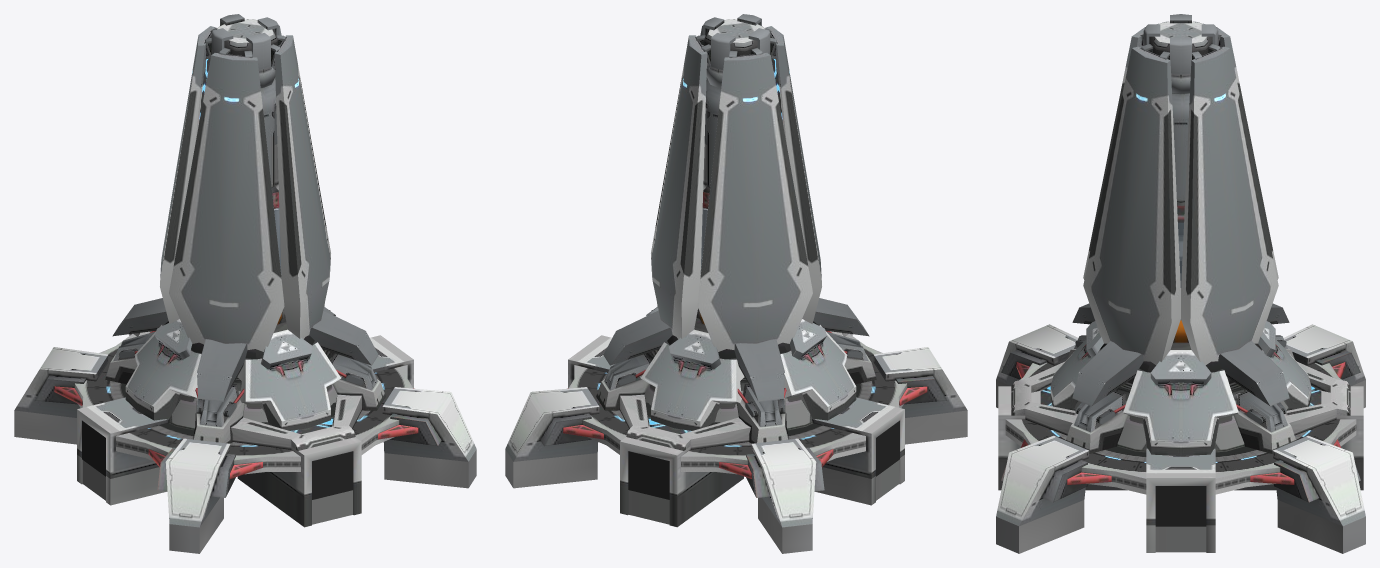
3 renders of one model, left to right at view 1: azimuth 30°, elevation 25°; view 2: azimuth 150°, elevation 25°; view 3: azimuth 270°, elevation 25°, orthographic. The views are drawn at different scales.
Visible parts, largest first — view 1: energy-exchanger; view 2: energy-exchanger; view 3: energy-exchanger.
Part boxes in pixels (box(x1,y1,x2,y2)): energy-exchanger: box(14, 14, 476, 553); energy-exchanger: box(505, 14, 967, 553); energy-exchanger: box(996, 14, 1365, 553).
Size of the model in its own units: 8.16 by 10.88 by 8.16.
4 materials, 2 textured.
